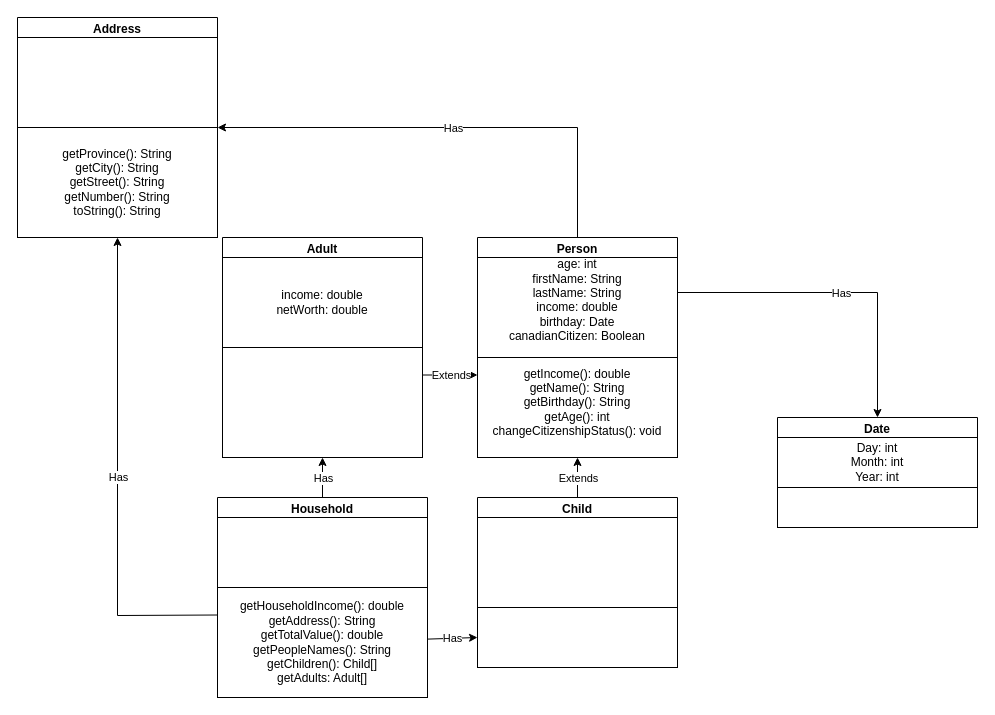
Some shapes in this 995 by 715 pixel diagram are drawn without their labels. The shapes that lost their labels are listed below. From the top down, each one's centre as x and y in pixels, then its label:
At (x=117, y=82): "province: String city: String street: String number: int".
At (x=322, y=402): "getIncome(): double getNetWorth(): double".
At (x=877, y=507): "getString(): String".
At (x=322, y=552): "children: Child[] adults: Adult[] address: Address housePrice: double".
At (x=577, y=562): "school: Address".
At (x=577, y=637): "transferSchool(): void".
